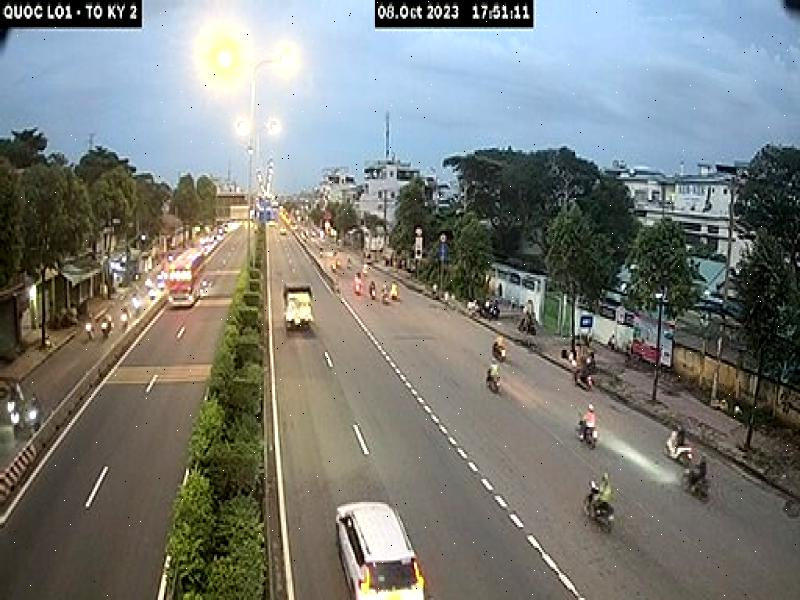car: (332, 503, 425, 600)
